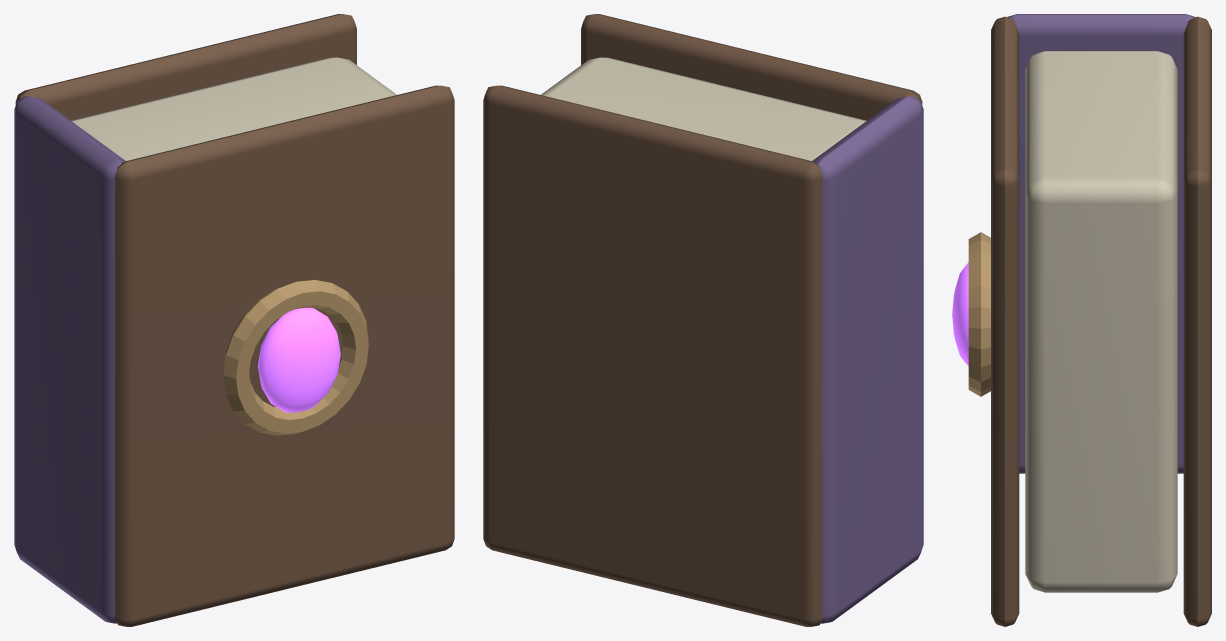
The model's file is gardien.glb.
3 renders of one model, left to right at view 1: azimuth 30°, elevation 25°; view 2: azimuth 150°, elevation 25°; view 3: azimuth 270°, elevation 25°, orthographic.
Visible parts, largest first — view 1: cuir, violet, papier, cuivre, magie; view 2: cuir, violet, papier; view 3: papier, cuir, violet, cuivre, magie.
Part boxes in pixels (box(x1,y1,x2,y2)): cuir: box(15, 14, 454, 626); violet: box(14, 96, 125, 623); papier: box(71, 57, 396, 160); cuivre: box(223, 280, 368, 435); magie: box(258, 307, 340, 412); cuir: box(483, 14, 922, 626); violet: box(812, 96, 923, 623); papier: box(541, 57, 866, 160); papier: box(1025, 51, 1177, 592); cuir: box(991, 16, 1211, 626); violet: box(1007, 14, 1194, 473); cuivre: box(968, 232, 990, 396); magie: box(952, 262, 968, 366).
Bounding box in the file's own units: 0.49 × 0.63 × 0.3235.
